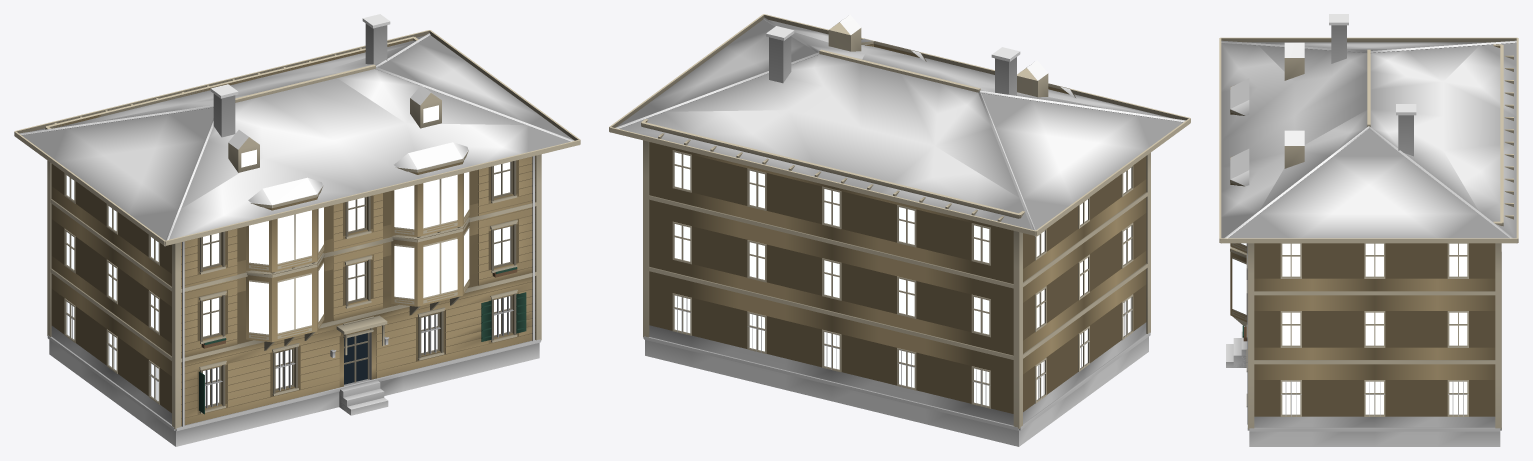
The model's file is bld_yali_a.glb.
3 renders of one model, left to right at view 1: azimuth 30°, elevation 25°; view 2: azimuth 150°, elevation 25°; view 3: azimuth 270°, elevation 25°, orthographic. The views are drawn at different scales.
Visible parts, largest first — view 1: LOD0; view 2: LOD0; view 3: LOD0.
Part boxes in pixels (box(x1,y1,x2,y2)): LOD0: box(14, 14, 580, 446); LOD0: box(609, 14, 1190, 446); LOD0: box(1219, 14, 1518, 446).
Size of what is drawn, in the model's own units: 21.3 by 14.7 by 13.38.
